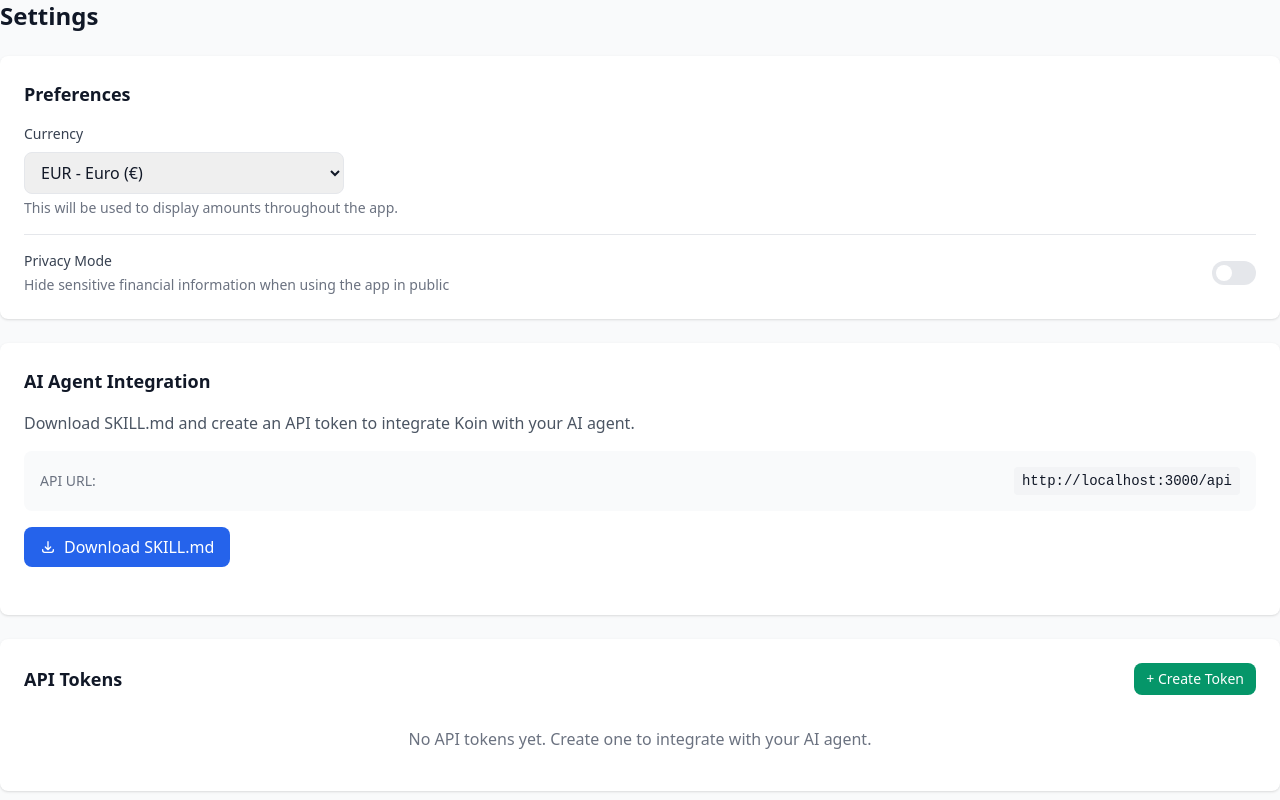
Test: SettingsPage › can create a token and see it displayed
Note: Open form
Click the button "+ Create Token". click: coordinates (1195, 679)
box: [1134, 663, 1256, 695]
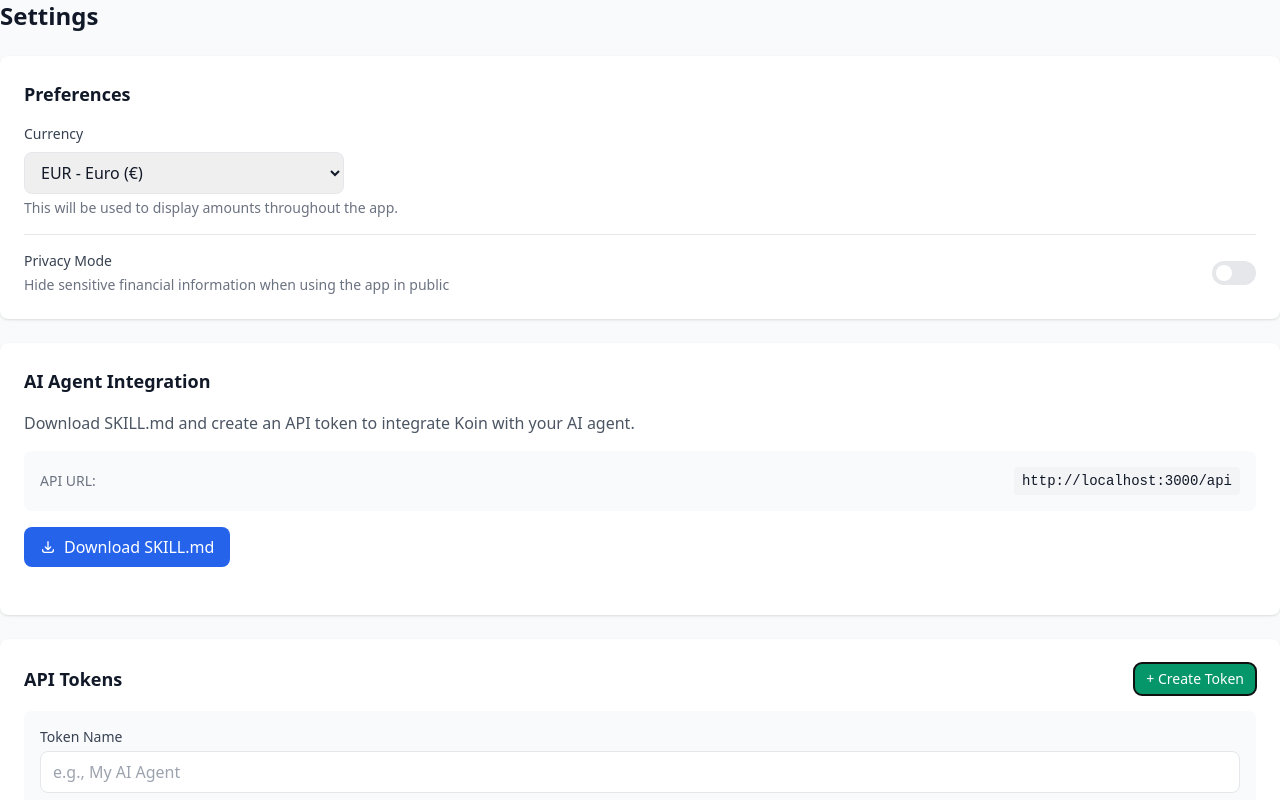
Expected: the field with placeholder "e.g., My AI Agent" is shown
Note: Fill and submit
Type "Test Agent" into the field with placeholder "e.g., My AI Agent". click: coordinates (640, 772)
box: [40, 751, 1240, 793]
(page scrolled)
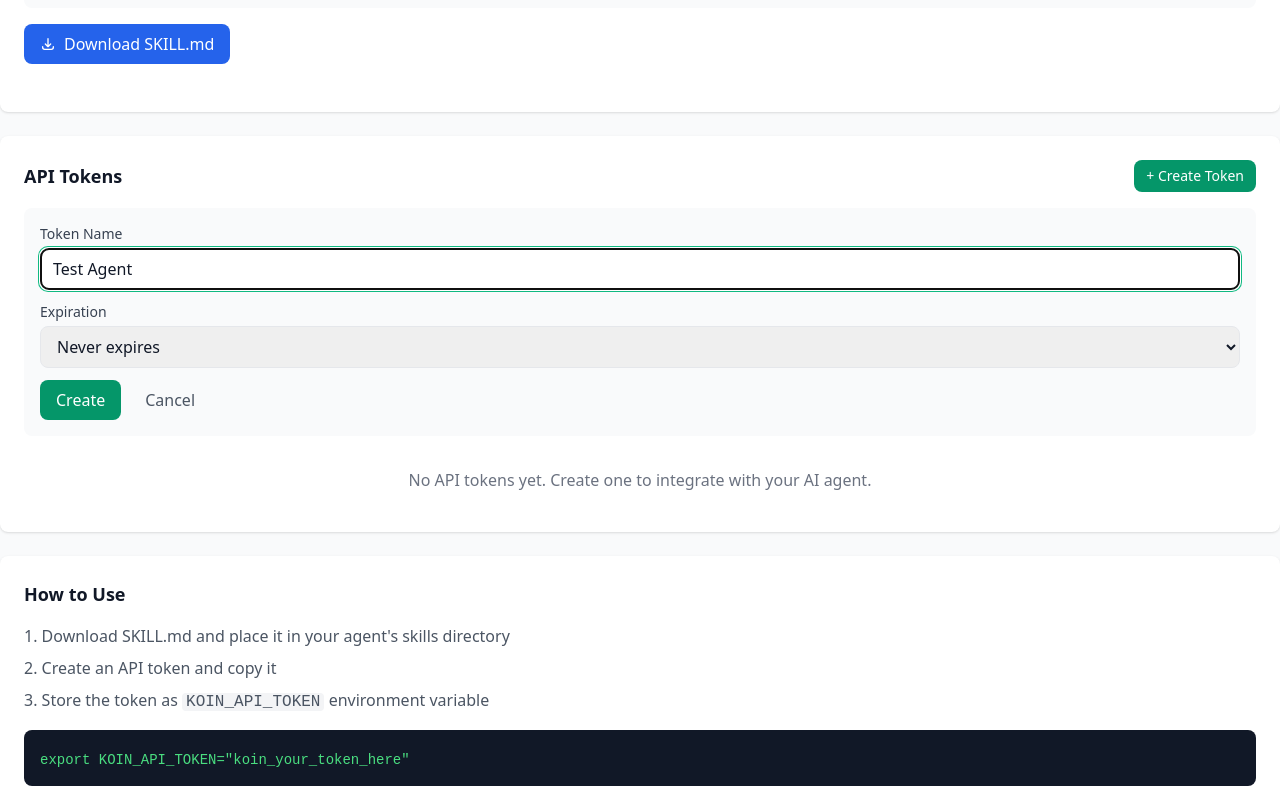
Click the button "Create". click: coordinates (81, 400)
box: [40, 380, 121, 420]
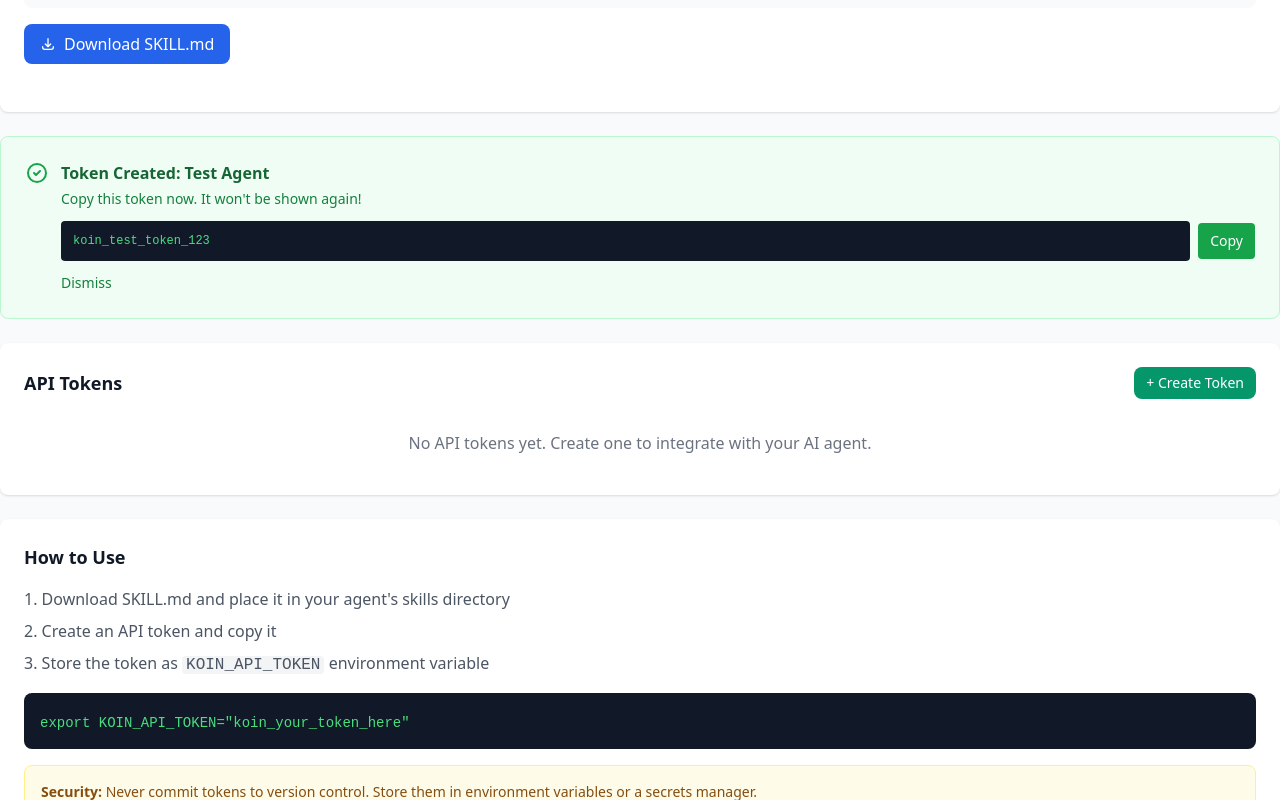
Expected: the heading "Token Created: Test Agent" is shown, [61, 162, 269, 184]
Expected: the text "Copy this token now. It won't be shown again!" is shown, [61, 189, 362, 208]
